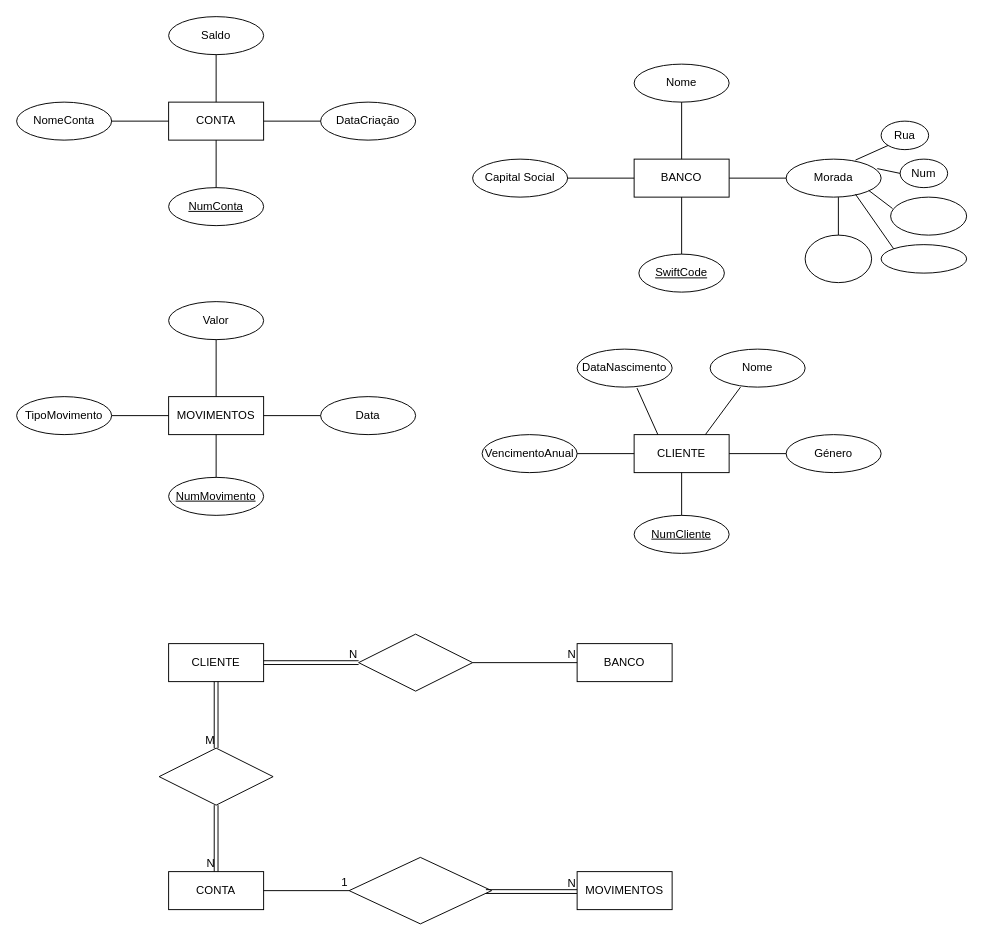
The diagram is 983 pixels wide and 941 high, and some of its shapes have lost their labels. Each missing label, with the centre of its shape:
"Andar?" belongs at point (928, 215).
"CodPostal" belongs at point (838, 258).
"CONTA_DE" belongs at point (215, 776).
"Localidade" belongs at point (923, 258).
"MOVIMENTOS_DE" belongs at point (420, 890).
"PERTENCE_A" belongs at point (415, 662).
